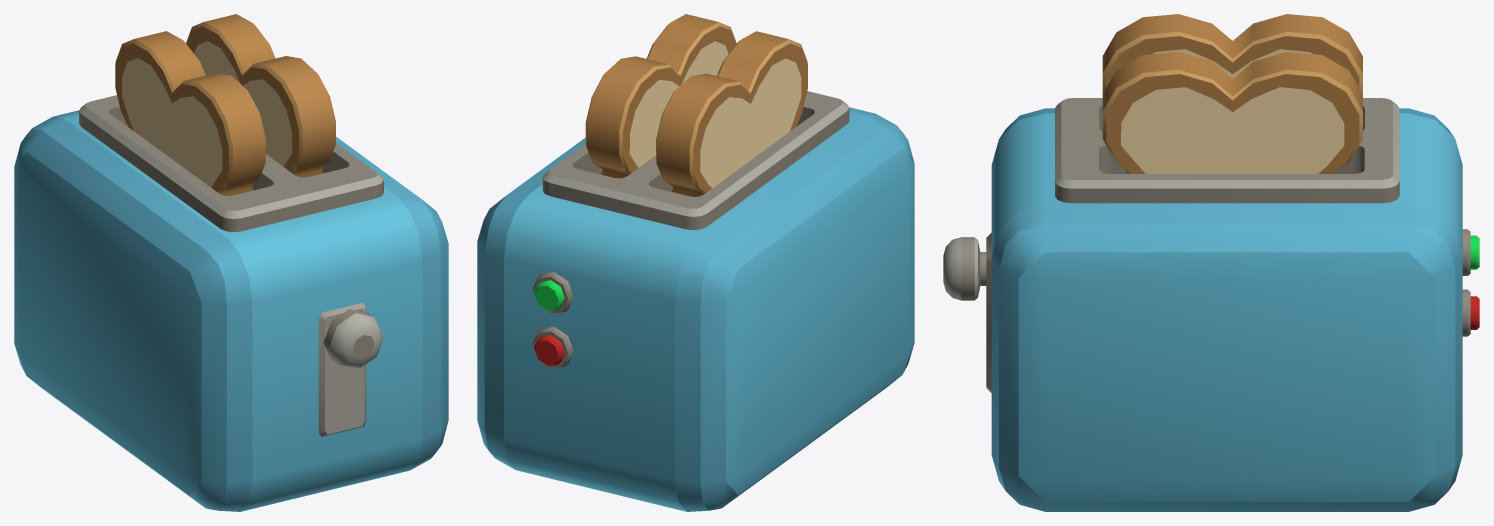
The model's file is Toster_2_F.glb.
3 views of the same model, side by side, from view 1: azimuth 30°, elevation 25°; view 2: azimuth 150°, elevation 25°; view 3: azimuth 270°, elevation 25° (orthographic). The views are drawn at different scales.
Parts seen in each view (by area): view 1: Toster_2_F; view 2: Toster_2_F; view 3: Toster_2_F.
Part boxes in pixels (left/top/right/bottom): Toster_2_F: left=14, top=14, right=448, bottom=511; Toster_2_F: left=477, top=14, right=914, bottom=511; Toster_2_F: left=943, top=14, right=1479, bottom=511.
Bounding box in the file's own units: 0.209 × 0.2895 × 0.3373.
Materials: 2 (2 with a texture image).
